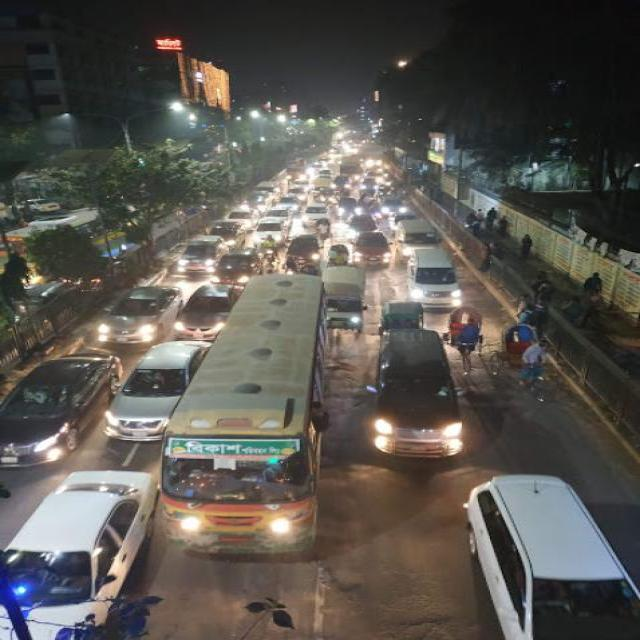Bus: (157, 271, 330, 557)
Car: (462, 473, 639, 639)
MiniBus: (363, 327, 466, 462)
